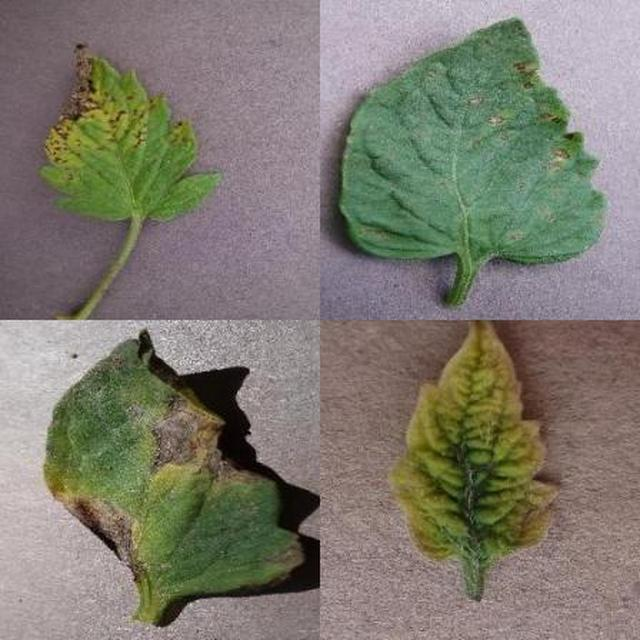Septoria Leaf: (189, 192, 640, 640)
